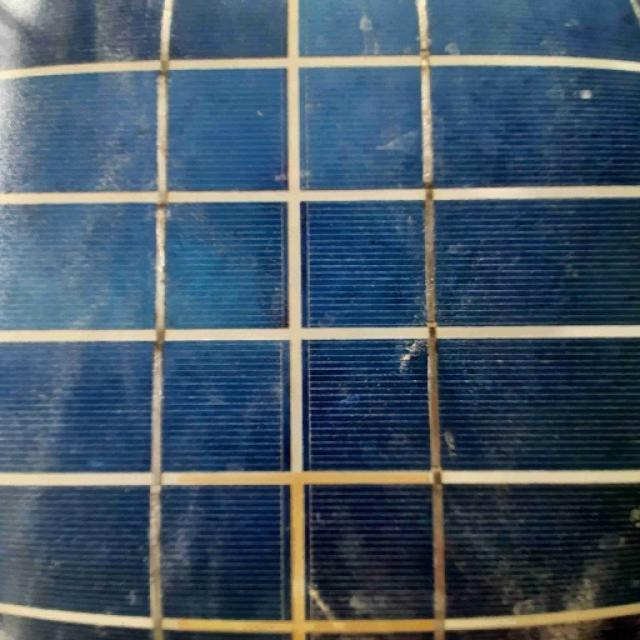Dirty: (0, 79, 640, 640)
